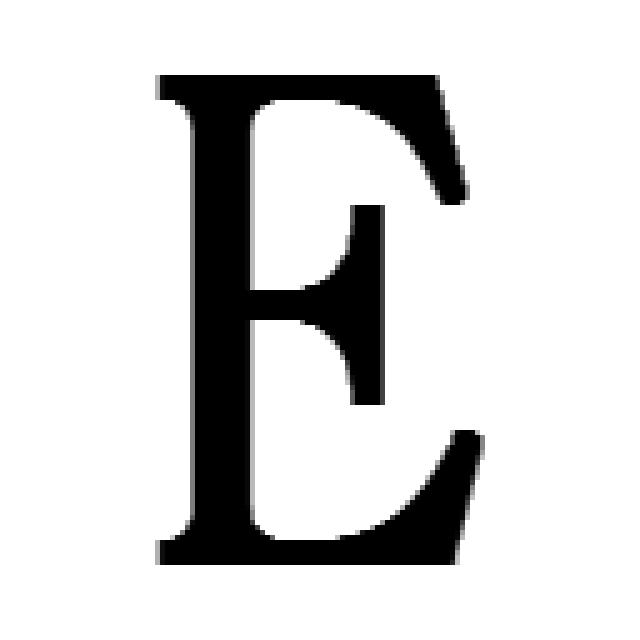E: (155, 75, 485, 565)
